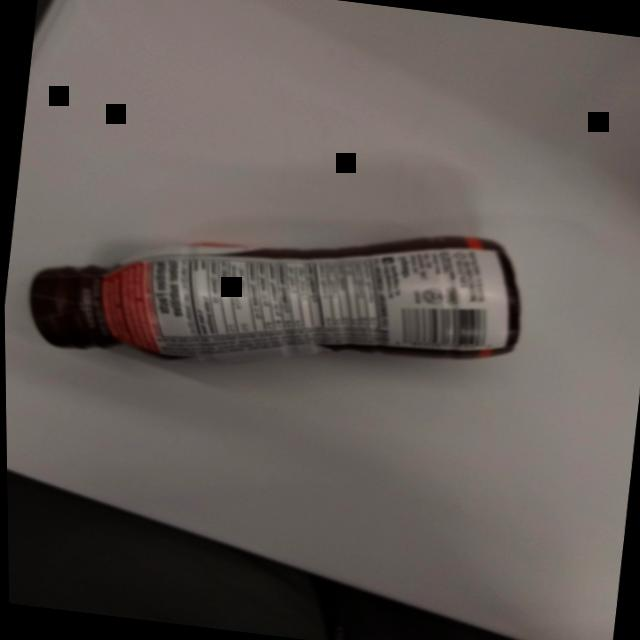chocolate_drink: (15, 175, 538, 413)
